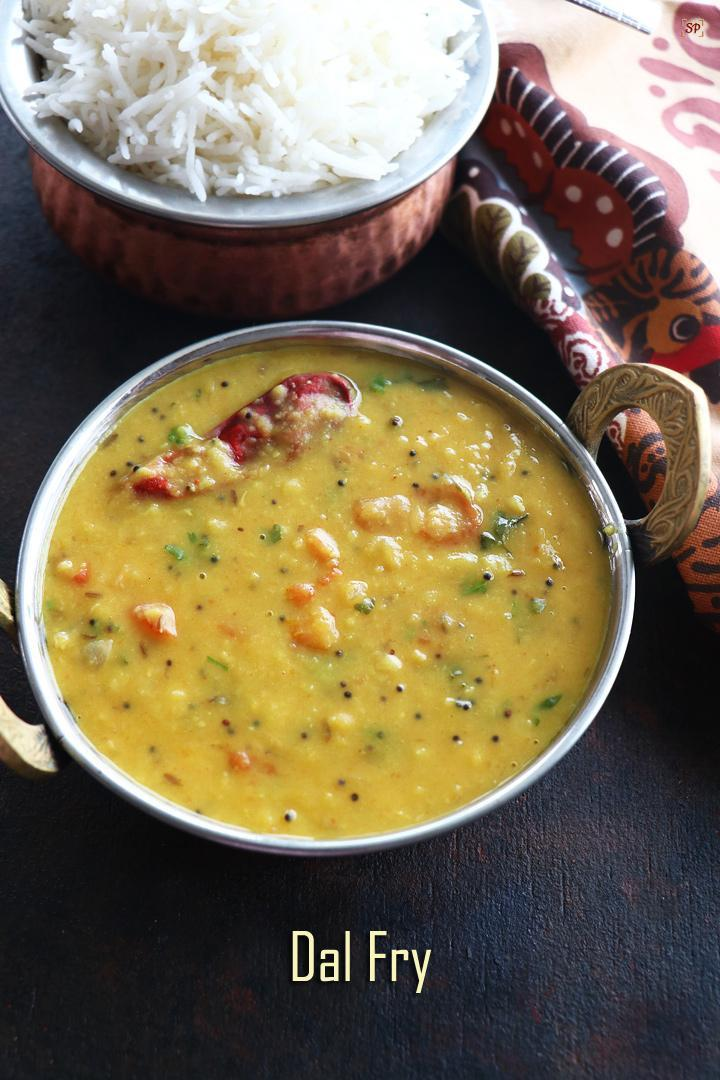dal: (51, 344, 616, 854)
rice: (20, 3, 476, 196)
